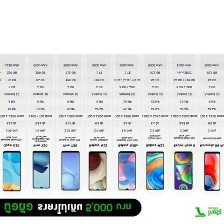phone: (58, 148, 81, 194), (84, 148, 107, 193), (115, 150, 138, 194), (0, 149, 22, 194), (171, 150, 194, 192), (31, 148, 52, 191), (202, 150, 223, 192), (144, 149, 164, 192)
